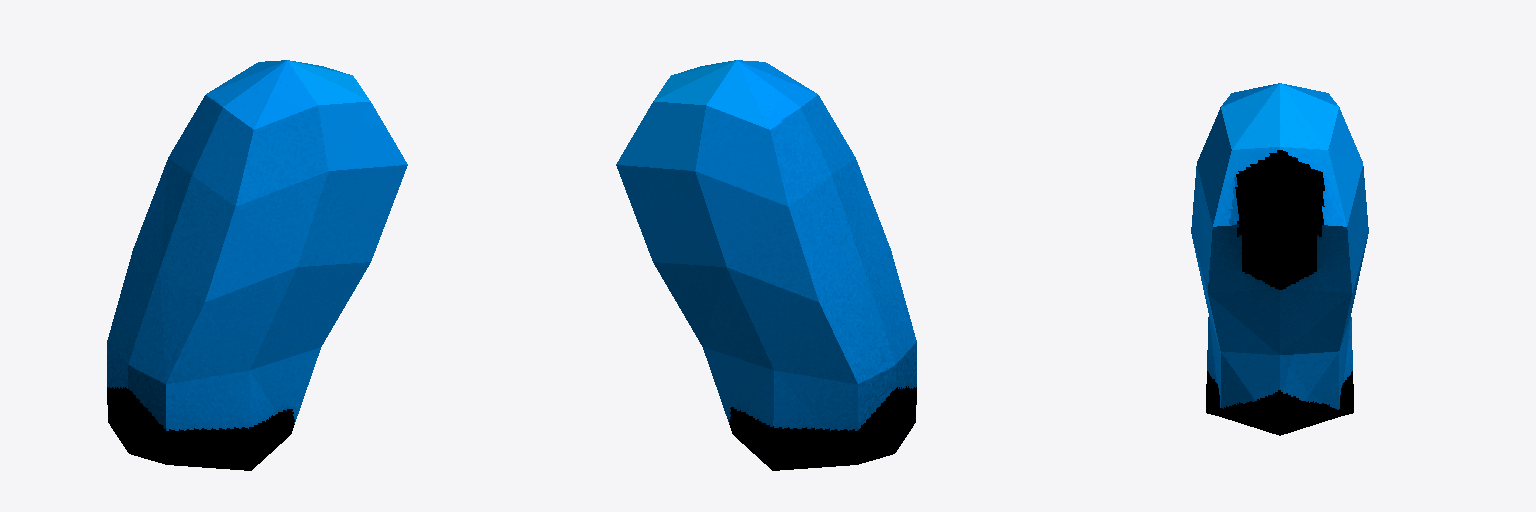
3 views of the same model, side by side, from view 1: azimuth 30°, elevation 25°; view 2: azimuth 150°, elevation 25°; view 3: azimuth 270°, elevation 25° (orthographic).
Parts seen in each view (by area): view 1: Cube_Cube.003; view 2: Cube_Cube.003; view 3: Cube_Cube.003.
Boxes of the visible parts, box(x1,y1,x2,y2) form: Cube_Cube.003: box(107, 60, 407, 470); Cube_Cube.003: box(616, 60, 916, 470); Cube_Cube.003: box(1191, 83, 1368, 435).
Bounding box in the file's own units: 0.5365 × 0.754 × 0.3228.
1 materials, 1 textured.